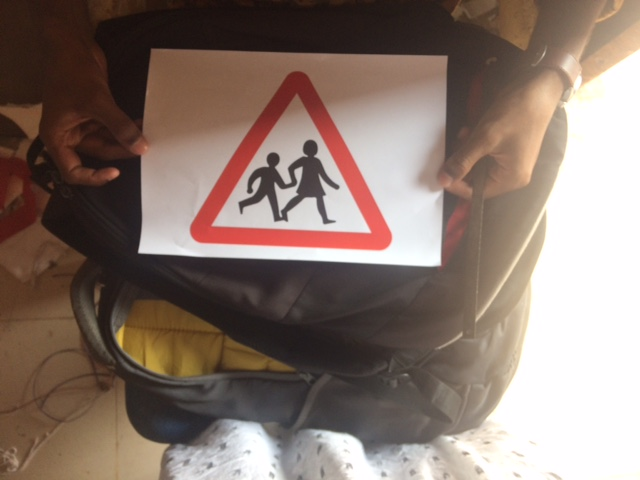sign: (183, 66, 396, 250)
